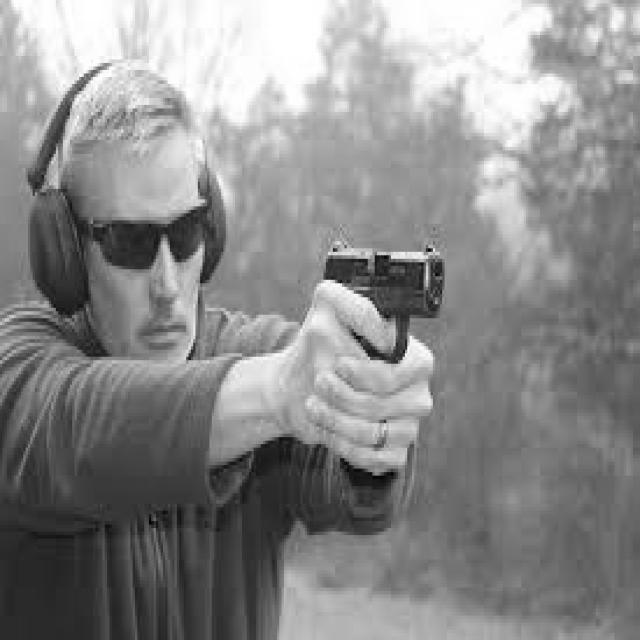weapons: (298, 212, 460, 418)
